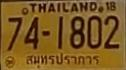0: (87, 15, 101, 48)
1: (58, 16, 62, 48)
2: (104, 15, 118, 48)
4: (24, 16, 38, 48)
7: (6, 16, 22, 50)
8: (69, 15, 84, 48)
SPK: (25, 53, 100, 67)
